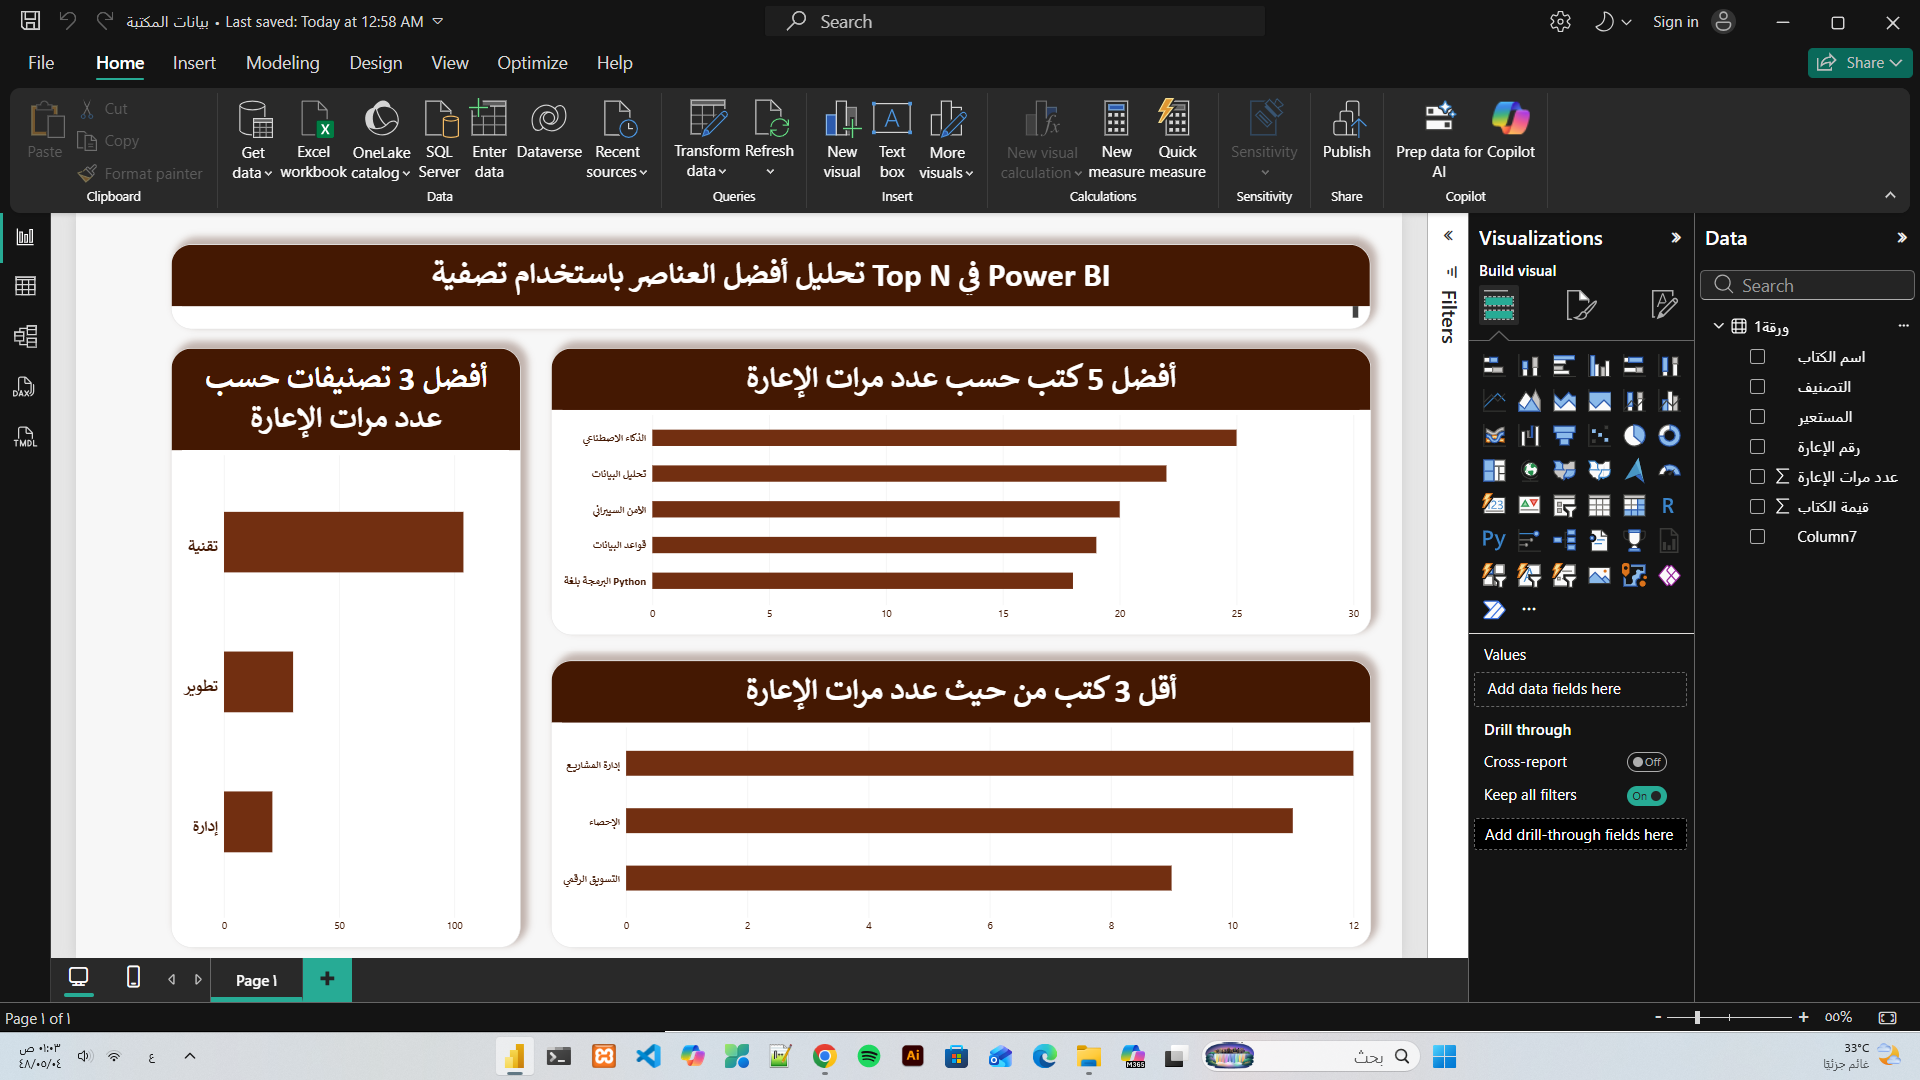

What the dashboard file says about the page in this screenshot:
{"tool":"powerbi","page":{"name":"Page ١","canvas":[1920,1080],"ordinal":0},"visuals":[{"type":"clusteredBarChart","title":"أفضل 5 كتب حسب عدد مرات الإعارة","fields":{"Category":["ورقة1.اسم الكتاب"],"Y":["Sum(ورقة1.عدد مرات الإعارة)"]},"box":[687.5,195.5,1187.7,415.8],"z":0},{"type":"barChart","title":"أفضل 3 تصنيفات حسب عدد مرات الإعارة","fields":{"Category":["ورقة1.التصنيف"],"Y":["Sum(ورقة1.عدد مرات الإعارة)"]},"box":[137.6,195.6,506.3,868.6],"z":1000},{"type":"clusteredBarChart","title":"أقل 3 كتب من حيث عدد مرات الإعارة","fields":{"Category":["ورقة1.اسم الكتاب"],"Y":["Sum(ورقة1.عدد مرات الإعارة)"]},"box":[687.5,648.4,1187.7,415.8],"z":2000},{"type":"textbox","title":"تحليل أفضل العناصر باستخدام تصفية Top N في Power BI","box":[137.9,45.3,1737.2,123.5],"z":3000}]}

Visuals, with their boxes on the page's 1920x1080 design canvas (x1, y1, x2, y2). These are canvas units, not pixel positions in the 1920x1080 screenshot, which may show the page scaled, cropped or inside an application window:
"أفضل 5 كتب حسب عدد مرات الإعارة" clusteredBarChart: [688, 196, 1875, 611]
"أفضل 3 تصنيفات حسب عدد مرات الإعارة" barChart: [138, 196, 644, 1064]
"أقل 3 كتب من حيث عدد مرات الإعارة" clusteredBarChart: [688, 648, 1875, 1064]
"تحليل أفضل العناصر باستخدام تصفية Top N في Power BI" textbox: [138, 45, 1875, 169]
